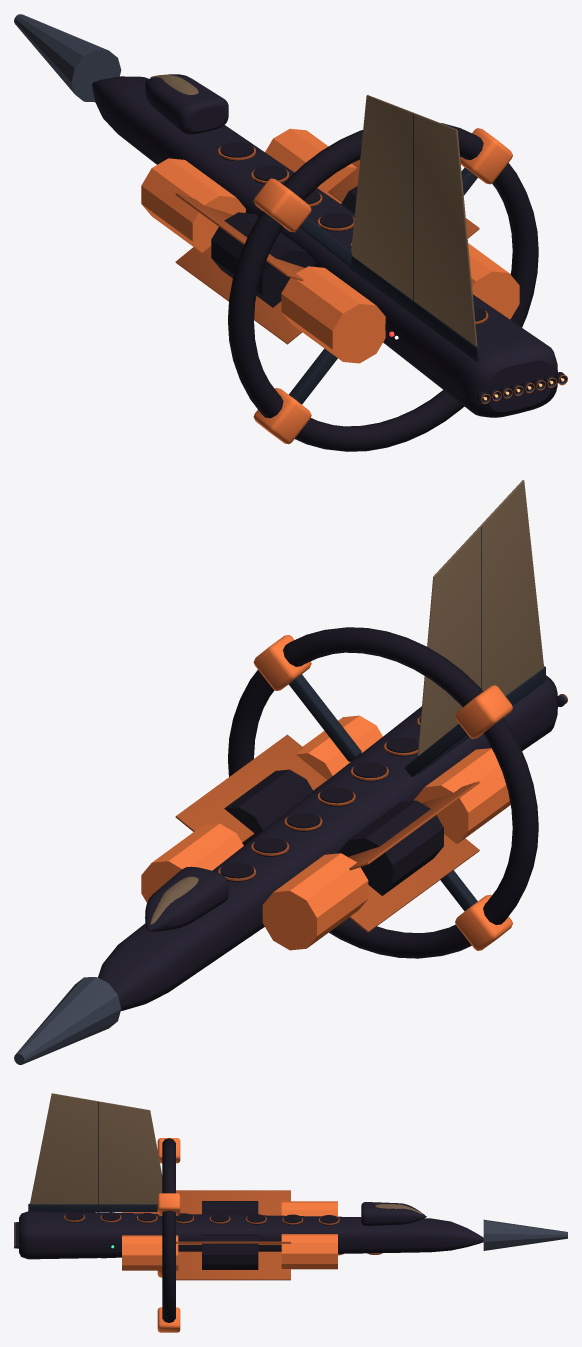
The model's file is eclipse.glb.
3 views of the same model, one above another, from view 1: azimuth 30°, elevation 25°; view 2: azimuth 150°, elevation 25°; view 3: azimuth 270°, elevation 25° (orthographic). The views are drawn at different scales.
Visible parts, largest first — view 1: eclipse_mesh, ring_mesh; view 2: eclipse_mesh, ring_mesh; view 3: eclipse_mesh, ring_mesh.
Boxes of the visible parts, x1,y1,x2,y2 form: eclipse_mesh: [14, 14, 567, 417]; ring_mesh: [228, 123, 538, 451]; eclipse_mesh: [14, 480, 567, 1064]; ring_mesh: [228, 627, 538, 958]; eclipse_mesh: [14, 1093, 567, 1280]; ring_mesh: [157, 1138, 180, 1332].
Bounding box in the file's own units: 37.32 × 46.82 × 106.
